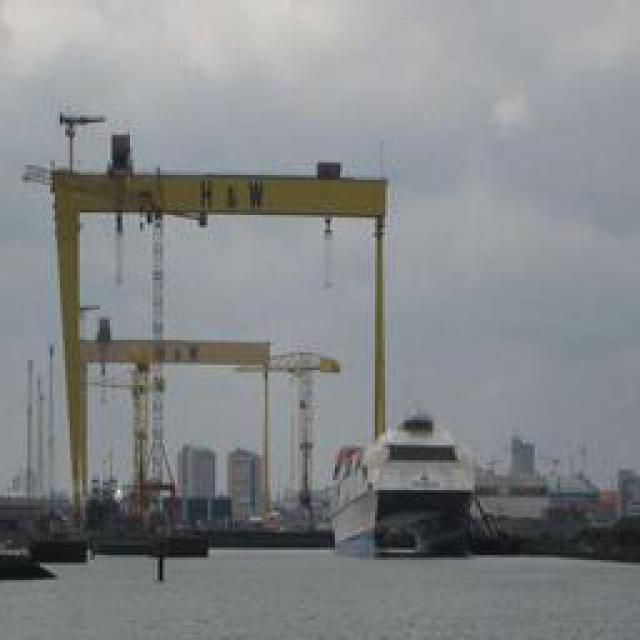Ship: (325, 409, 487, 558)
